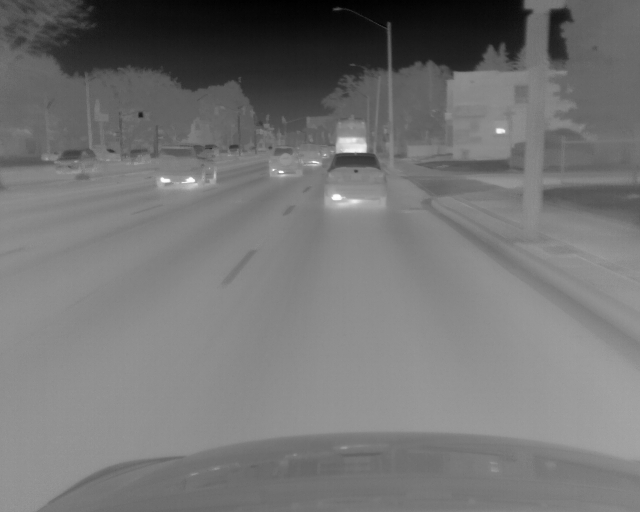car: (321, 152, 386, 211), (154, 143, 218, 189), (333, 118, 366, 156), (54, 148, 98, 176), (266, 144, 301, 179), (299, 144, 321, 166), (125, 149, 149, 166), (226, 144, 242, 157), (319, 145, 329, 160)
